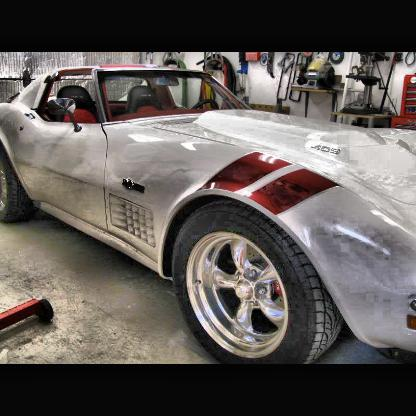Chevrolet Corvette Ron Fellows Edition Z06 2007: (2, 68, 416, 365)
